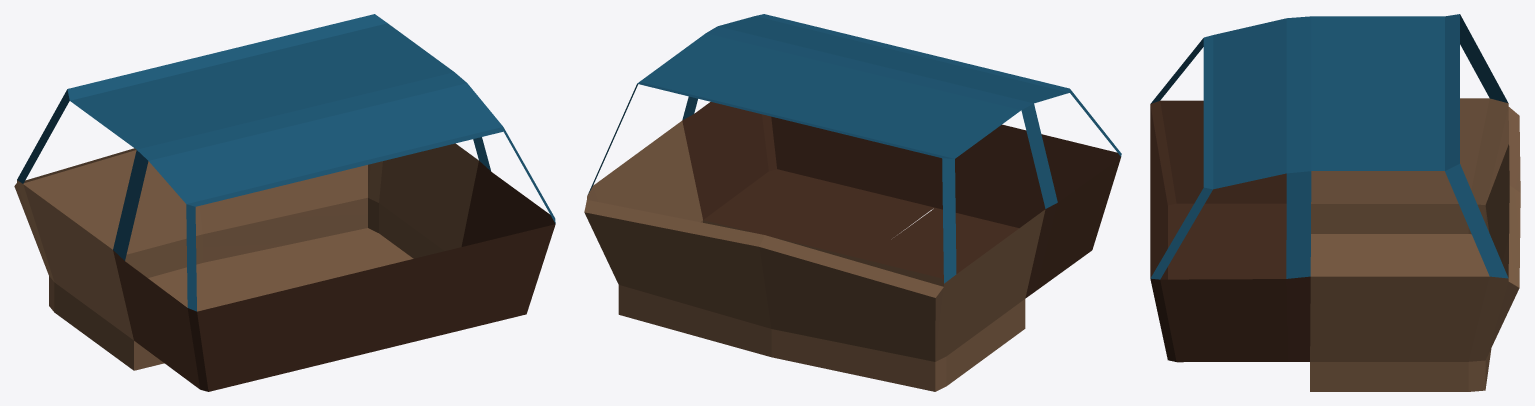
The model's file is carwithinteriour.fbx.
The picture shows the model from 3 angles, left to right: view 1: azimuth 30°, elevation 25°; view 2: azimuth 150°, elevation 25°; view 3: azimuth 270°, elevation 25°; orthographic projection.
Visible parts, largest first — view 1: Car_03; view 2: Car_03; view 3: Car_03.
Boxes of the visible parts, x1=… form: Car_03: x1=14, y1=14, x2=555, y2=391; Car_03: x1=584, y1=14, x2=1121, y2=391; Car_03: x1=1150, y1=14, x2=1520, y2=391.
Size of the model in its own units: 353 by 206 by 308.
